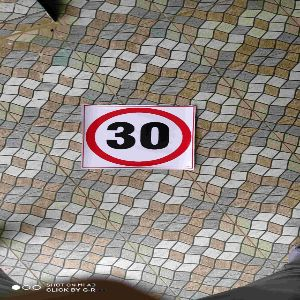speedlimit30: (81, 105, 197, 170)
